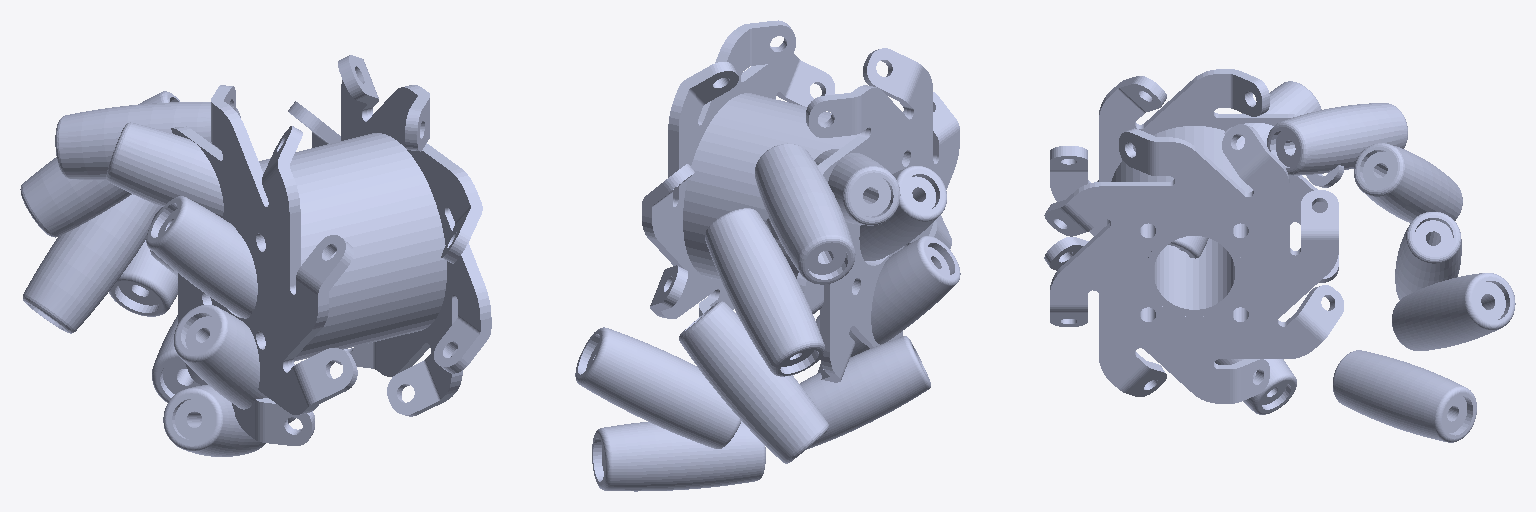
The robot description file, URDF, robot "Mecanum-Left":
<?xml version="1.0" encoding="utf-8"?>
<!-- This URDF was automatically created by SolidWorks to URDF Exporter! Originally created by [author] ([email redacted]) 
     Commit Version: 1.6.0-4-g7f85cfe  Build Version: 1.6.7995.38578
     For more information, please see http://wiki.ros.org/sw_urdf_exporter -->
<robot
  name="Mecanum-Left">
  <link
    name="base_link">
    <inertial>
      <origin
        xyz="-5.71071320654166E-07 1.24074703998625E-17 -8.40087960733809E-19"
        rpy="0 0 0" />
      <mass
        value="0.0110925597603563" />
      <inertia
        ixx="1.39920510272198E-06"
        ixy="6.03598608368132E-22"
        ixz="2.70201401925188E-21"
        iyy="9.49230299056441E-07"
        iyz="-8.48228743085689E-23"
        izz="9.49230299056441E-07" />
    </inertial>
    <visual>
      <origin
        xyz="0 0 0"
        rpy="0 0 0" />
      <geometry>
        <mesh
          filename="package://Mecanum-Left/meshes/base_link.STL" />
      </geometry>
      <material
        name="">
        <color
          rgba="0.792156862745098 0.819607843137255 0.933333333333333 1" />
      </material>
    </visual>
    <collision>
      <origin
        xyz="0 0 0"
        rpy="0 0 0" />
      <geometry>
        <mesh
          filename="package://Mecanum-Left/meshes/base_link.STL" />
      </geometry>
    </collision>
  </link>
  <link
    name="Mecanum_roller_link_1">
    <inertial>
      <origin
        xyz="4.19537259525784E-05 -9.19403442267708E-17 -4.5102810375397E-17"
        rpy="0 0 0" />
      <mass
        value="0.00104310145784987" />
      <inertia
        ixx="9.96758957260103E-09"
        ixy="8.47860127866853E-24"
        ixz="-4.54949336904165E-24"
        iyy="3.79225492604175E-08"
        iyz="3.30872245021211E-24"
        izz="3.79225492604176E-08" />
    </inertial>
    <visual>
      <origin
        xyz="0 0 0"
        rpy="0 0 0" />
      <geometry>
        <mesh
          filename="package://Mecanum-Left/meshes/Mecanum_roller_link_1.STL" />
      </geometry>
      <material
        name="">
        <color
          rgba="0.792156862745098 0.819607843137255 0.933333333333333 1" />
      </material>
    </visual>
    <collision>
      <origin
        xyz="0 0 0"
        rpy="0 0 0" />
      <geometry>
        <mesh
          filename="package://Mecanum-Left/meshes/Mecanum_roller_link_1.STL" />
      </geometry>
    </collision>
  </link>
  <joint
    name="Mecanum_roller_joint_1"
    type="continuous">
    <origin
      xyz="0.00012912 0.014344 0.0095825"
      rpy="-2.7656 0.6249 2.6298" />
    <parent
      link="base_link" />
    <child
      link="Mecanum_roller_link_1" />
    <axis
      xyz="1 0 0" />
  </joint>
  <link
    name="Mecanum_roller_link_2">
    <inertial>
      <origin
        xyz="-4.19537259514885E-05 -2.77555756156289E-17 -9.71445146547012E-17"
        rpy="0 0 0" />
      <mass
        value="0.00104310145784987" />
      <inertia
        ixx="9.96758957260103E-09"
        ixy="1.68021061924834E-24"
        ixz="-5.37667398159468E-24"
        iyy="3.79225492604175E-08"
        iyz="-1.03397576569128E-25"
        izz="3.79225492604175E-08" />
    </inertial>
    <visual>
      <origin
        xyz="0 0 0"
        rpy="0 0 0" />
      <geometry>
        <mesh
          filename="package://Mecanum-Left/meshes/Mecanum_roller_link_2.STL" />
      </geometry>
      <material
        name="">
        <color
          rgba="0.792156862745098 0.819607843137255 0.933333333333333 1" />
      </material>
    </visual>
    <collision>
      <origin
        xyz="0 0 0"
        rpy="0 0 0" />
      <geometry>
        <mesh
          filename="package://Mecanum-Left/meshes/Mecanum_roller_link_2.STL" />
      </geometry>
    </collision>
  </link>
  <joint
    name="Mecanum_roller_joint_2"
    type="continuous">
    <origin
      xyz="-0.00012933 0.0045802 0.016631"
      rpy="1.6775 -0.19406 -0.76608" />
    <parent
      link="base_link" />
    <child
      link="Mecanum_roller_link_2" />
    <axis
      xyz="1 0 0" />
  </joint>
  <link
    name="Mecanum_roller_link_3">
    <inertial>
      <origin
        xyz="-4.19537259517232E-05 6.24500451351651E-17 -1.45716771982052E-16"
        rpy="0 0 0" />
      <mass
        value="0.00104310145784987" />
      <inertia
        ixx="9.96758957260103E-09"
        ixy="4.39439700418796E-24"
        ixz="-8.27180612553028E-25"
        iyy="3.79225492604175E-08"
        iyz="-1.65436122510606E-24"
        izz="3.79225492604175E-08" />
    </inertial>
    <visual>
      <origin
        xyz="0 0 0"
        rpy="0 0 0" />
      <geometry>
        <mesh
          filename="package://Mecanum-Left/meshes/Mecanum_roller_link_3.STL" />
      </geometry>
      <material
        name="">
        <color
          rgba="0.792156862745098 0.819607843137255 0.933333333333333 1" />
      </material>
    </visual>
    <collision>
      <origin
        xyz="0 0 0"
        rpy="0 0 0" />
      <geometry>
        <mesh
          filename="package://Mecanum-Left/meshes/Mecanum_roller_link_3.STL" />
      </geometry>
    </collision>
  </link>
  <joint
    name="Mecanum_roller_joint_3"
    type="continuous">
    <origin
      xyz="0.00012912 -0.006946 0.01579"
      rpy="1.4846 0.29377 -0.73958" />
    <parent
      link="base_link" />
    <child
      link="Mecanum_roller_link_3" />
    <axis
      xyz="1 0 0" />
  </joint>
  <link
    name="Mecanum_roller_link_4">
    <inertial>
      <origin
        xyz="-4.19537259518845E-05 9.54097911787244E-17 -5.03069808033274E-17"
        rpy="0 0 0" />
      <mass
        value="0.00104310145784987" />
      <inertia
        ixx="9.9675895729459E-09"
        ixy="-5.11818004017186E-24"
        ixz="2.68833699079734E-24"
        iyy="3.79225492606102E-08"
        iyz="-8.27180612553028E-25"
        izz="3.79225492606102E-08" />
    </inertial>
    <visual>
      <origin
        xyz="0 0 0"
        rpy="0 0 0" />
      <geometry>
        <mesh
          filename="package://Mecanum-Left/meshes/Mecanum_roller_link_4.STL" />
      </geometry>
      <material
        name="">
        <color
          rgba="0.792156862745098 0.819607843137255 0.933333333333333 1" />
      </material>
    </visual>
    <collision>
      <origin
        xyz="0 0 0"
        rpy="0 0 0" />
      <geometry>
        <mesh
          filename="package://Mecanum-Left/meshes/Mecanum_roller_link_4.STL" />
      </geometry>
    </collision>
  </link>
  <joint
    name="Mecanum_roller_joint_4"
    type="continuous">
    <origin
      xyz="0.00012912 -0.015471 0.0076312"
      rpy="1.4497 0.68992 -0.41086" />
    <parent
      link="base_link" />
    <child
      link="Mecanum_roller_link_4" />
    <axis
      xyz="1 0 0" />
  </joint>
  <link
    name="Mecanum_roller_link_5">
    <inertial>
      <origin
        xyz="4.1659597956364E-05 1.04950770296597E-16 1.38777878078145E-17"
        rpy="0 0 0" />
      <mass
        value="0.00104310145784987" />
      <inertia
        ixx="9.96758957260103E-09"
        ixy="3.87740912134232E-25"
        ixz="-2.1713491079517E-24"
        iyy="3.79225492604175E-08"
        iyz="2.06795153138257E-25"
        izz="3.79225492604175E-08" />
    </inertial>
    <visual>
      <origin
        xyz="0 0 0"
        rpy="0 0 0" />
      <geometry>
        <mesh
          filename="package://Mecanum-Left/meshes/Mecanum_roller_link_5.STL" />
      </geometry>
      <material
        name="">
        <color
          rgba="0.792156862745098 0.819607843137255 0.933333333333333 1" />
      </material>
    </visual>
    <collision>
      <origin
        xyz="0 0 0"
        rpy="0 0 0" />
      <geometry>
        <mesh
          filename="package://Mecanum-Left/meshes/Mecanum_roller_link_5.STL" />
      </geometry>
    </collision>
  </link>
  <joint
    name="Mecanum_roller_joint_5"
    type="continuous">
    <origin
      xyz="0.00012912 -0.016757 -0.0040986"
      rpy="1.6948 0.7554 0.24013" />
    <parent
      link="base_link" />
    <child
      link="Mecanum_roller_link_5" />
    <axis
      xyz="1 0 0" />
  </joint>
  <link
    name="Mecanum_roller_link_6">
    <inertial>
      <origin
        xyz="-4.19537259515289E-05 6.93889390390723E-18 1.73472347597681E-18"
        rpy="0 0 0" />
      <mass
        value="0.00104310145784984" />
      <inertia
        ixx="9.96758957158561E-09"
        ixy="-6.04875822929401E-24"
        ixz="-1.15805285757424E-23"
        iyy="3.79225492599098E-08"
        iyz="8.27180612553028E-25"
        izz="3.79225492599098E-08" />
    </inertial>
    <visual>
      <origin
        xyz="0 0 0"
        rpy="0 0 0" />
      <geometry>
        <mesh
          filename="package://Mecanum-Left/meshes/Mecanum_roller_link_6.STL" />
      </geometry>
      <material
        name="">
        <color
          rgba="0.792156862745098 0.819607843137255 0.933333333333333 1" />
      </material>
    </visual>
    <collision>
      <origin
        xyz="0 0 0"
        rpy="0 0 0" />
      <geometry>
        <mesh
          filename="package://Mecanum-Left/meshes/Mecanum_roller_link_6.STL" />
      </geometry>
    </collision>
  </link>
  <joint
    name="Mecanum_roller_joint_6"
    type="continuous">
    <origin
      xyz="0.00012912 -0.010202 -0.013911"
      rpy="1.7524 0.42673 0.68129" />
    <parent
      link="base_link" />
    <child
      link="Mecanum_roller_link_6" />
    <axis
      xyz="1 0 0" />
  </joint>
  <link
    name="Mecanum_roller_link_7">
    <inertial>
      <origin
        xyz="-4.19537259513104E-05 6.24500451351651E-17 4.16333634234434E-17"
        rpy="0 0 0" />
      <mass
        value="0.00104310145784987" />
      <inertia
        ixx="9.96758957260102E-09"
        ixy="-3.30872245021211E-24"
        ixz="-1.03397576569128E-24"
        iyy="3.79225492604175E-08"
        iyz="2.48154183765908E-24"
        izz="3.79225492604175E-08" />
    </inertial>
    <visual>
      <origin
        xyz="0 0 0"
        rpy="0 0 0" />
      <geometry>
        <mesh
          filename="package://Mecanum-Left/meshes/Mecanum_roller_link_7.STL" />
      </geometry>
      <material
        name="">
        <color
          rgba="0.792156862745098 0.819607843137255 0.933333333333333 1" />
      </material>
    </visual>
    <collision>
      <origin
        xyz="0 0 0"
        rpy="0 0 0" />
      <geometry>
        <mesh
          filename="package://Mecanum-Left/meshes/Mecanum_roller_link_7.STL" />
      </geometry>
    </collision>
  </link>
  <joint
    name="Mecanum_roller_joint_7"
    type="continuous">
    <origin
      xyz="0.00012912 0.0011266 -0.017214"
      rpy="2.5112 -0.051481 0.78407" />
    <parent
      link="base_link" />
    <child
      link="Mecanum_roller_link_7" />
    <axis
      xyz="1 0 0" />
  </joint>
  <link
    name="Mecanum_roller_link_8">
    <inertial>
      <origin
        xyz="4.16595979570254E-05 -8.67361737988404E-18 -6.93889390390723E-18"
        rpy="0 0 0" />
      <mass
        value="0.00104310145784987" />
      <inertia
        ixx="9.96758957226301E-09"
        ixy="-4.23930063933427E-24"
        ixz="-3.30872245021211E-24"
        iyy="3.79225492602485E-08"
        iyz="-4.13590306276514E-25"
        izz="3.79225492602485E-08" />
    </inertial>
    <visual>
      <origin
        xyz="0 0 0"
        rpy="0 0 0" />
      <geometry>
        <mesh
          filename="package://Mecanum-Left/meshes/Mecanum_roller_link_8.STL" />
      </geometry>
      <material
        name="">
        <color
          rgba="0.792156862745098 0.819607843137255 0.933333333333333 1" />
      </material>
    </visual>
    <collision>
      <origin
        xyz="0 0 0"
        rpy="0 0 0" />
      <geometry>
        <mesh
          filename="package://Mecanum-Left/meshes/Mecanum_roller_link_8.STL" />
      </geometry>
    </collision>
  </link>
  <joint
    name="Mecanum_roller_joint_8"
    type="continuous">
    <origin
      xyz="-0.00012933 0.012113 -0.012282"
      rpy="-1.7252 -0.51523 0.6222" />
    <parent
      link="base_link" />
    <child
      link="Mecanum_roller_link_8" />
    <axis
      xyz="1 0 0" />
  </joint>
  <link
    name="Mecanum_roller_link_9">
    <inertial>
      <origin
        xyz="-4.19537259509657E-05 8.02309607639273E-17 -1.04083408558608E-17"
        rpy="0 0 0" />
      <mass
        value="0.00104310145784987" />
      <inertia
        ixx="9.96758957260103E-09"
        ixy="-3.36042123849667E-25"
        ixz="2.99852972050473E-24"
        iyy="3.79225492604175E-08"
        iyz="-4.13590306276514E-25"
        izz="3.79225492604175E-08" />
    </inertial>
    <visual>
      <origin
        xyz="0 0 0"
        rpy="0 0 0" />
      <geometry>
        <mesh
          filename="package://Mecanum-Left/meshes/Mecanum_roller_link_9.STL" />
      </geometry>
      <material
        name="">
        <color
          rgba="0.792156862745098 0.819607843137255 0.933333333333333 1" />
      </material>
    </visual>
    <collision>
      <origin
        xyz="0 0 0"
        rpy="0 0 0" />
      <geometry>
        <mesh
          filename="package://Mecanum-Left/meshes/Mecanum_roller_link_9.STL" />
      </geometry>
    </collision>
  </link>
  <joint
    name="Mecanum_roller_joint_9"
    type="continuous">
    <origin
      xyz="0.00012912 0.017148 -0.0018797"
      rpy="1.5575 -0.78024 0.10117" />
    <parent
      link="base_link" />
    <child
      link="Mecanum_roller_link_9" />
    <axis
      xyz="1 0 0" />
  </joint>
</robot>

--- What the picture shows (computed from the rendered views, not written in the file) ---
3 views of the same robot in one strip: view 1: azimuth 30°, elevation 25°; view 2: azimuth 150°, elevation 25°; view 3: azimuth 270°, elevation 25° (orthographic).
Model Mecanum-Left with 10 links and 9 joints (9 continuous), rooted at base_link, posed every joint at zero.
Links seen in each view (by area): view 1: base_link, Mecanum_roller_link_9, Mecanum_roller_link_4, Mecanum_roller_link_3, Mecanum_roller_link_2, Mecanum_roller_link_5, Mecanum_roller_link_1, Mecanum_roller_link_6, Mecanum_roller_link_8, Mecanum_roller_link_7; view 2: base_link, Mecanum_roller_link_1, Mecanum_roller_link_8, Mecanum_roller_link_9, Mecanum_roller_link_7, Mecanum_roller_link_2, Mecanum_roller_link_6, Mecanum_roller_link_5, Mecanum_roller_link_4, Mecanum_roller_link_3; view 3: base_link, Mecanum_roller_link_7, Mecanum_roller_link_8, Mecanum_roller_link_2, Mecanum_roller_link_1, Mecanum_roller_link_9, Mecanum_roller_link_6, Mecanum_roller_link_3, Mecanum_roller_link_4.
Link boxes in pixels (x1,y1,x2,y2): base_link: (150, 55, 491, 445); Mecanum_roller_link_9: (23, 194, 161, 333); Mecanum_roller_link_4: (146, 196, 257, 318); Mecanum_roller_link_3: (106, 122, 223, 217); Mecanum_roller_link_2: (55, 102, 240, 179); Mecanum_roller_link_5: (174, 305, 295, 423); Mecanum_roller_link_1: (20, 91, 179, 237); Mecanum_roller_link_6: (163, 385, 265, 456); Mecanum_roller_link_8: (109, 240, 177, 316); Mecanum_roller_link_7: (152, 315, 200, 402); base_link: (642, 20, 959, 382); Mecanum_roller_link_1: (705, 208, 824, 376); Mecanum_roller_link_8: (575, 327, 740, 448); Mecanum_roller_link_9: (679, 301, 828, 463); Mecanum_roller_link_7: (592, 421, 765, 491); Mecanum_roller_link_2: (755, 143, 855, 284); Mecanum_roller_link_6: (800, 336, 930, 449); Mecanum_roller_link_5: (816, 236, 960, 356); Mecanum_roller_link_4: (859, 166, 946, 260); Mecanum_roller_link_3: (814, 149, 900, 225); base_link: (1044, 69, 1343, 403); Mecanum_roller_link_7: (1333, 350, 1476, 442); Mecanum_roller_link_8: (1392, 273, 1515, 350); Mecanum_roller_link_2: (1267, 103, 1407, 175); Mecanum_roller_link_1: (1354, 143, 1462, 222); Mecanum_roller_link_9: (1395, 212, 1461, 299); Mecanum_roller_link_6: (1215, 359, 1296, 414); Mecanum_roller_link_3: (1224, 81, 1321, 149); Mecanum_roller_link_4: (1168, 236, 1208, 258).
Bounding box of the posed robot: 0.0337 × 0.0648 × 0.0499 m (x, y, z).
10 mesh visuals loaded from 10 distinct referenced files (10 binary STL).